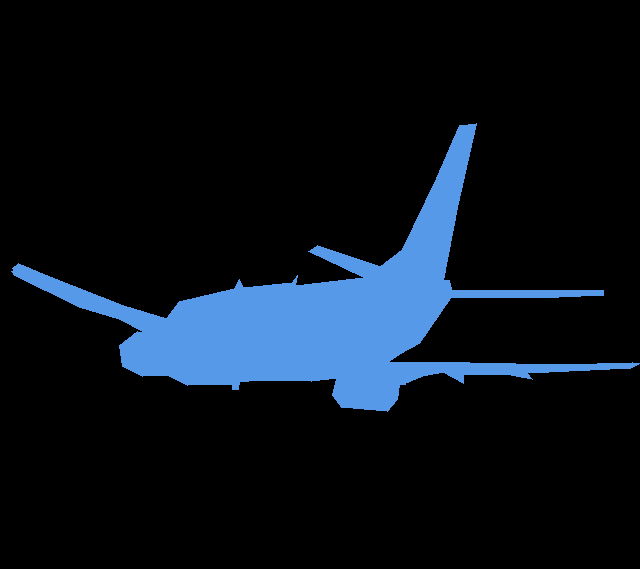Airplane: (11, 123, 640, 411)
